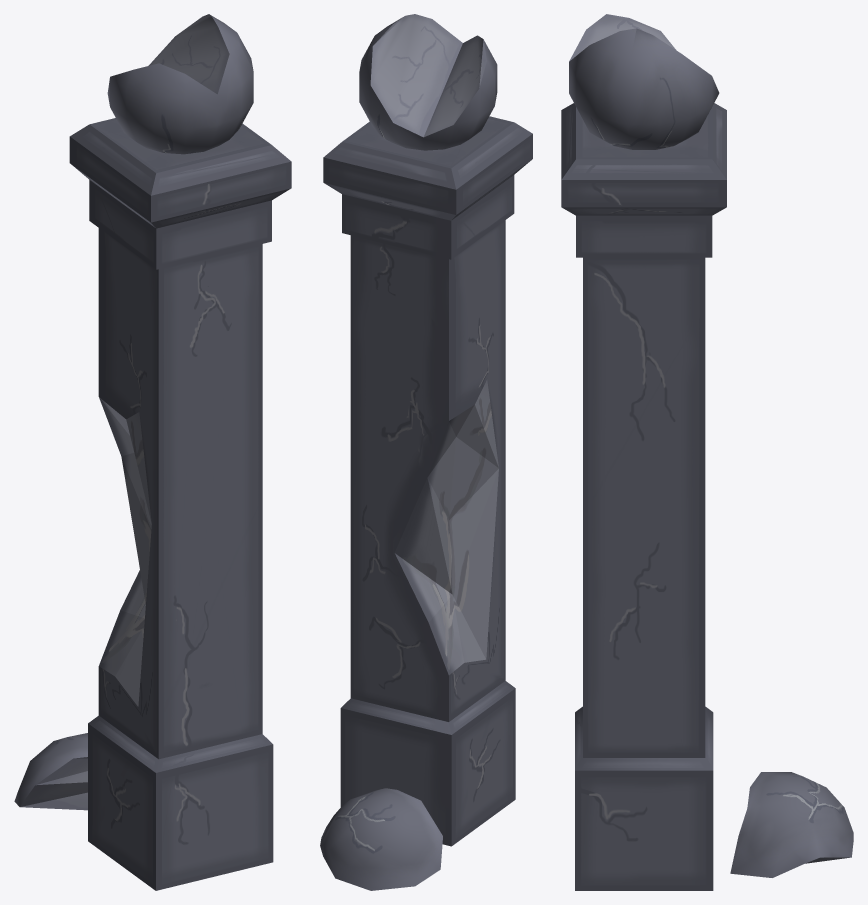
The model's file is Small_Broken_Pillar.FBX.
3 views of the same model, side by side, from view 1: azimuth 30°, elevation 25°; view 2: azimuth 150°, elevation 25°; view 3: azimuth 270°, elevation 25° (orthographic). The views are drawn at different scales.
Parts seen in each view (by area): view 1: Box004; view 2: Box004; view 3: Box004.
Part boxes in pixels (box(x1,y1,x2,y2)): Box004: box(14, 14, 291, 890); Box004: box(320, 14, 532, 890); Box004: box(561, 14, 853, 890).
Size of the model in its own units: 115 by 583 by 182.
Materials: 1 (1 with a texture image).
